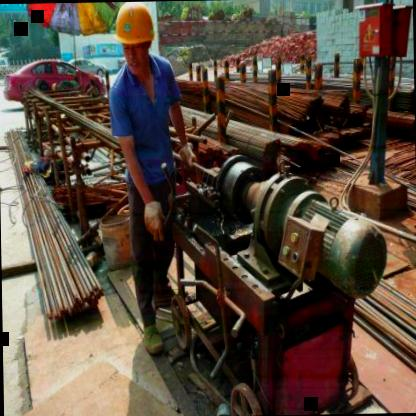helmet: (110, 1, 158, 77)
